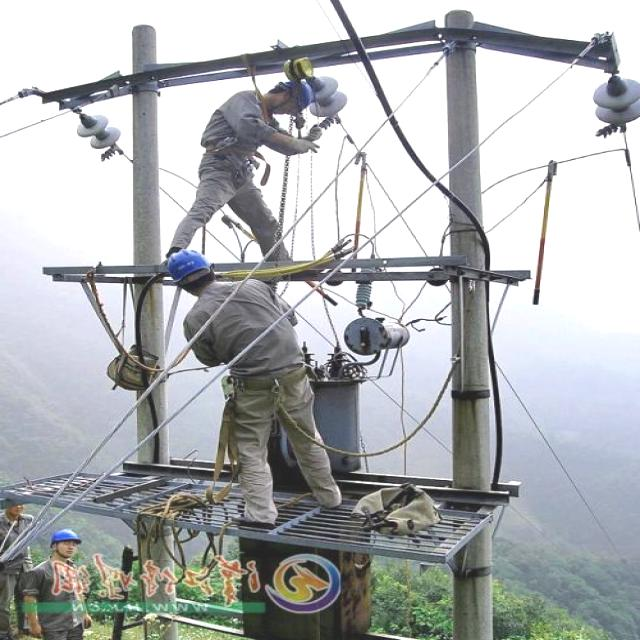hand_glove: (283, 135, 320, 164)
head_helmet: (158, 243, 214, 278), (283, 74, 328, 111), (50, 529, 83, 544)
person: (164, 238, 316, 521), (162, 69, 324, 258), (21, 522, 98, 640), (0, 492, 36, 640)
